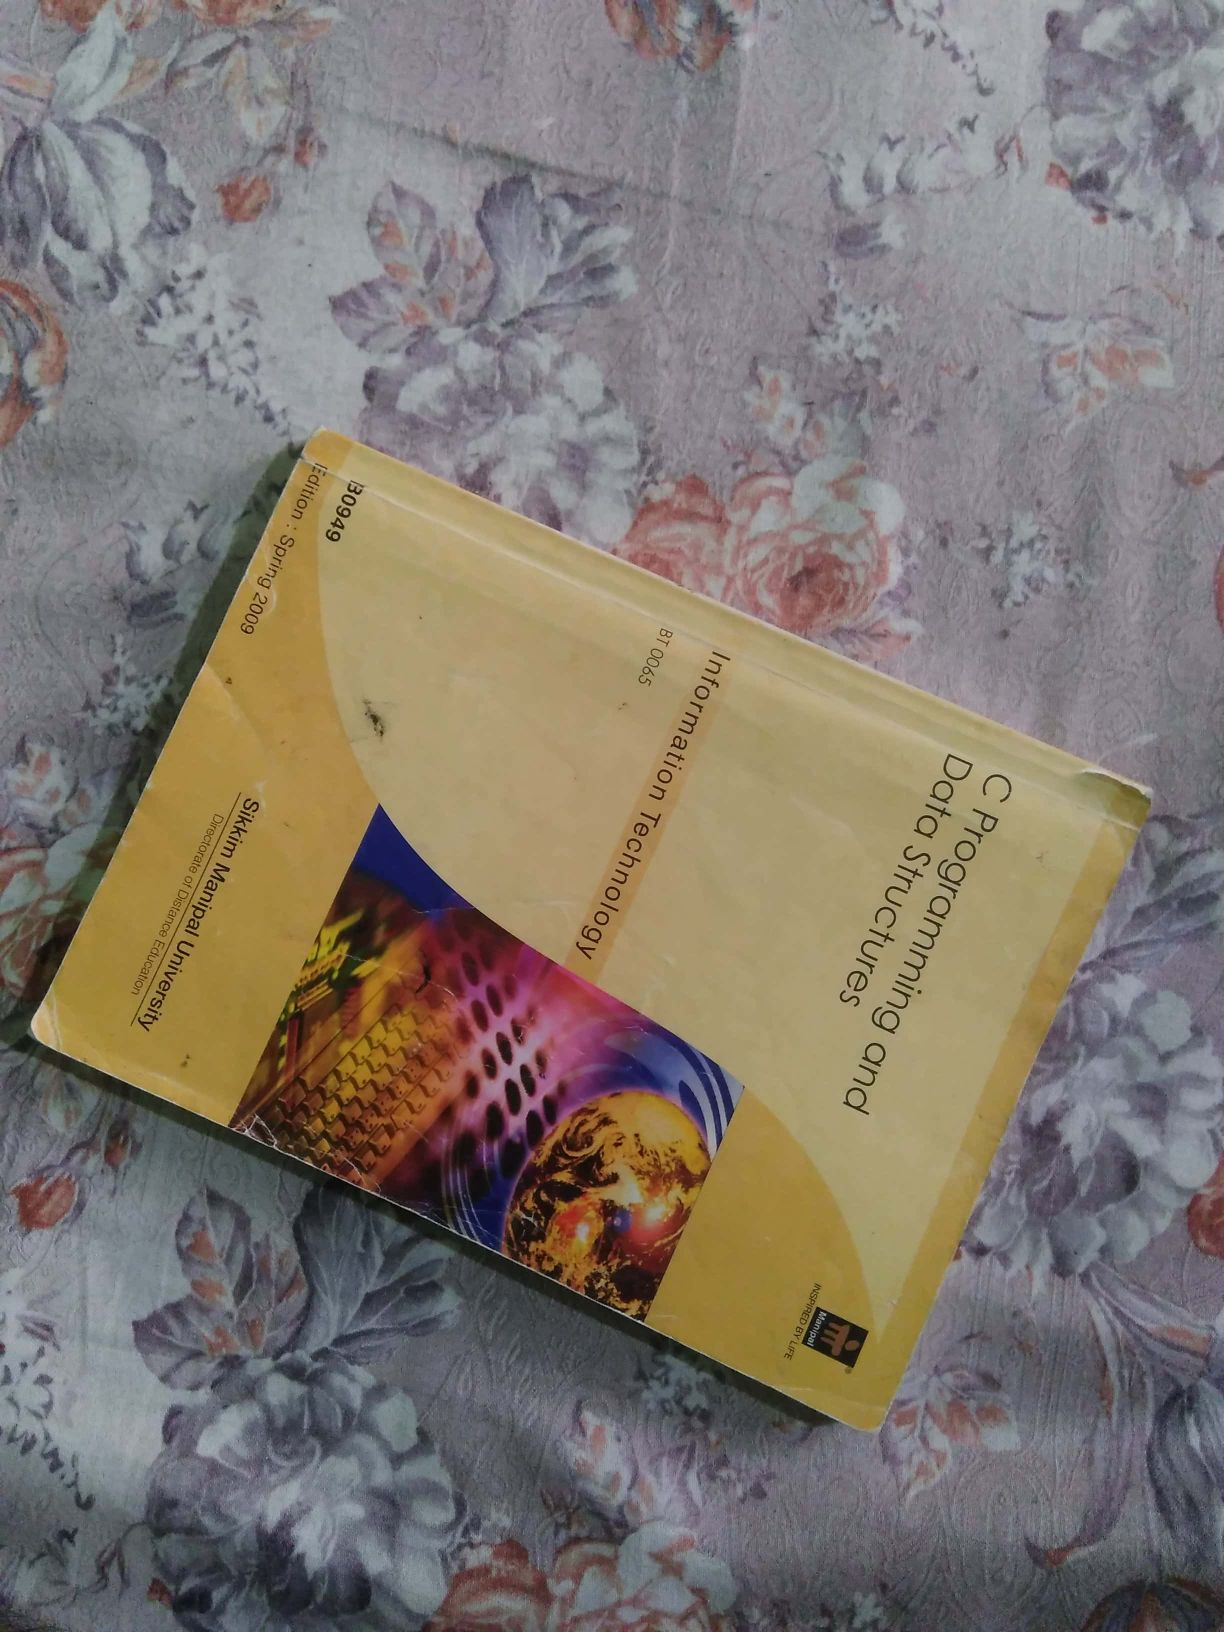clang: (37, 421, 1129, 1415)
